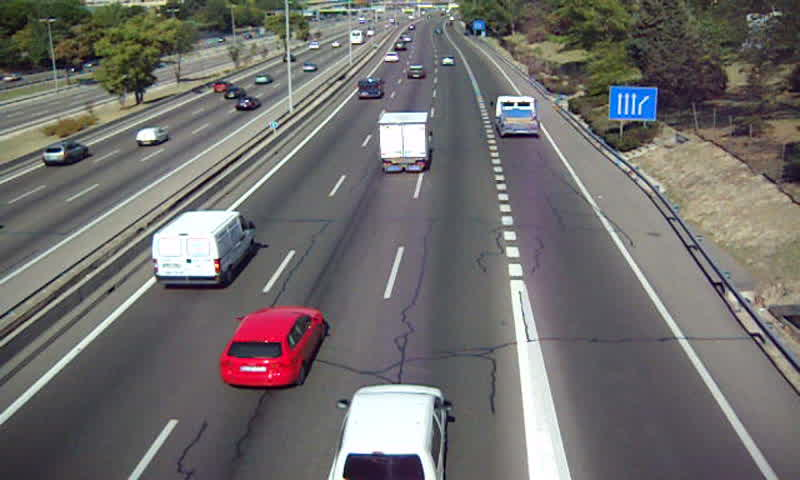car: (324, 384, 447, 480), (219, 307, 323, 390), (406, 64, 426, 80), (382, 50, 398, 64), (440, 55, 457, 68)
small-truck: (378, 112, 431, 173), (493, 95, 540, 135)
van: (151, 211, 254, 285), (356, 76, 385, 100)
